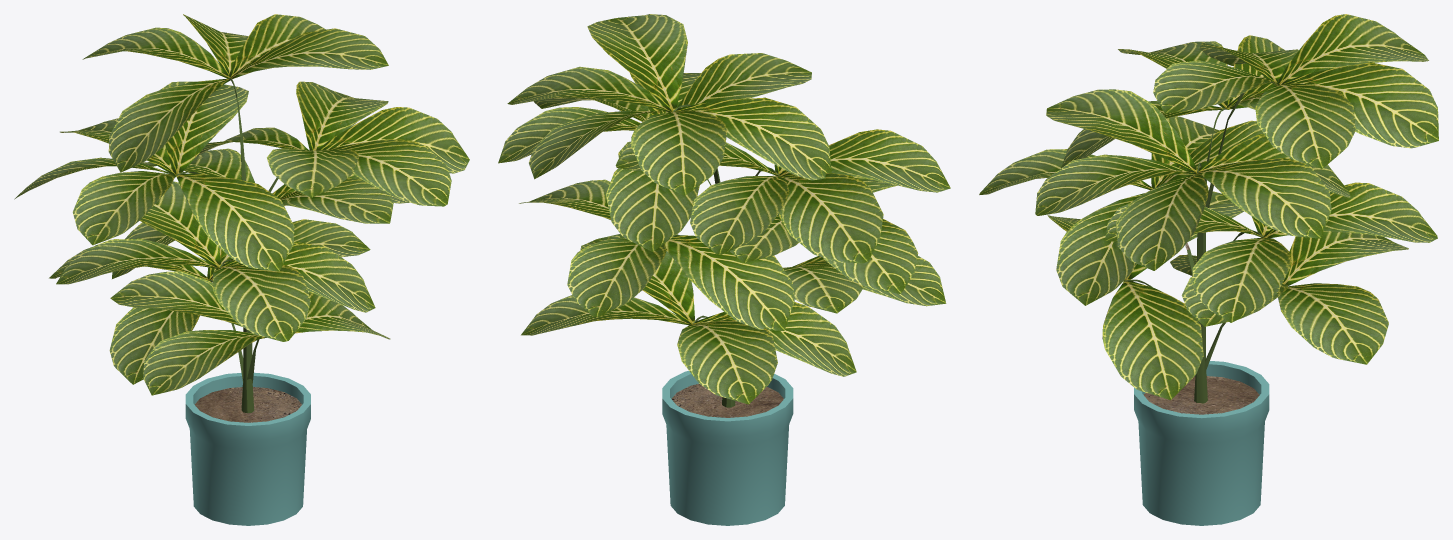
The model's file is Plant.FBX.
3 views of the same model, side by side, from view 1: azimuth 30°, elevation 25°; view 2: azimuth 150°, elevation 25°; view 3: azimuth 270°, elevation 25° (orthographic). The views are drawn at different scales.
Visible parts, largest first — view 1: Plant; view 2: Plant; view 3: Plant.
Part boxes in pixels (x1,y1,x2,y2): Plant: [14, 14, 469, 525]; Plant: [498, 14, 950, 525]; Plant: [979, 14, 1438, 525].
Bounding box in the file's own units: 49.8 × 53.39 × 47.71.
1 material, 1 textured.
